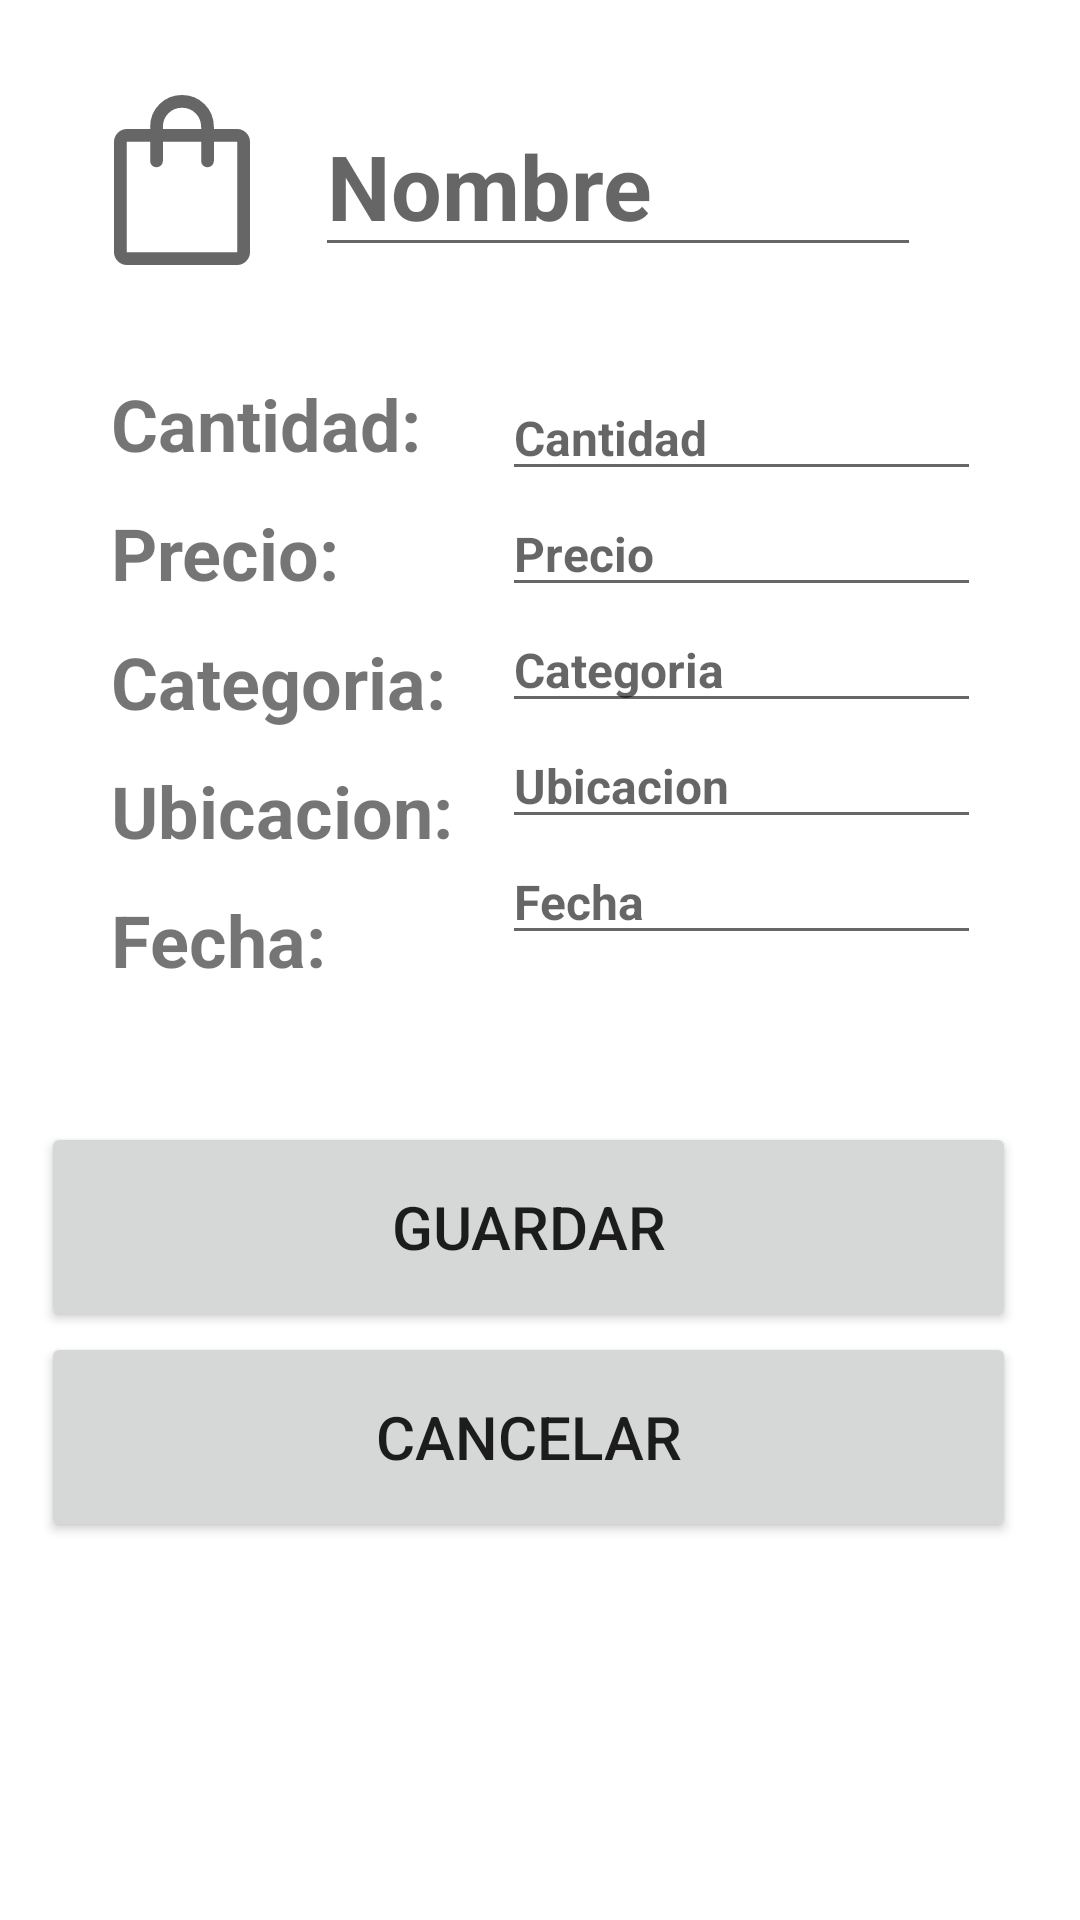

Locate icon controls on the screen. Image size 1080x1920, boxes as bbox=[x1, y1, x2, y2].
articulo: bbox=[114, 95, 250, 265]
